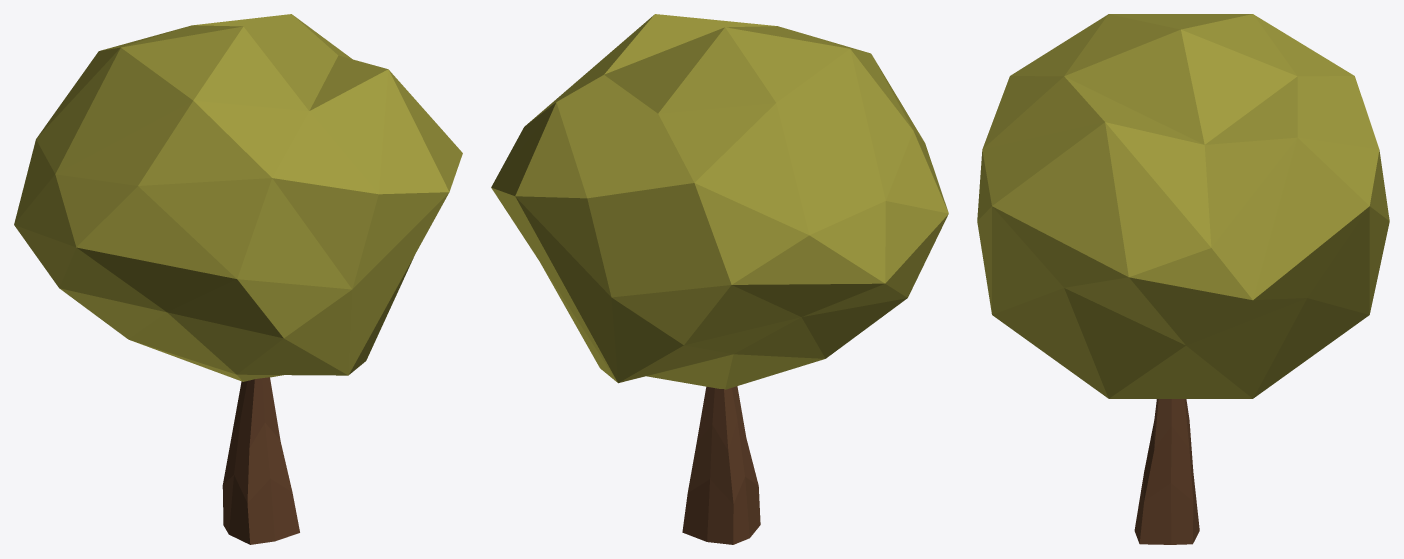
Rendered from Tree_48_Yellow.fbx.
3 views of the same model, side by side, from view 1: azimuth 30°, elevation 25°; view 2: azimuth 150°, elevation 25°; view 3: azimuth 270°, elevation 25° (orthographic). The views are drawn at different scales.
Parts seen in each view (by area): view 1: Tree_48_Yellow_Part_1, Tree_48_Yellow_Part_2; view 2: Tree_48_Yellow_Part_1, Tree_48_Yellow_Part_2; view 3: Tree_48_Yellow_Part_1, Tree_48_Yellow_Part_2.
Part boxes in pixels (bbox=[...]): Tree_48_Yellow_Part_1: bbox=[14, 14, 462, 381]; Tree_48_Yellow_Part_2: bbox=[222, 377, 299, 544]; Tree_48_Yellow_Part_1: bbox=[491, 14, 948, 389]; Tree_48_Yellow_Part_2: bbox=[682, 386, 760, 544]; Tree_48_Yellow_Part_1: bbox=[977, 14, 1389, 398]; Tree_48_Yellow_Part_2: bbox=[1134, 399, 1199, 544].
Size of the model in its own units: 564 by 696 by 524.
